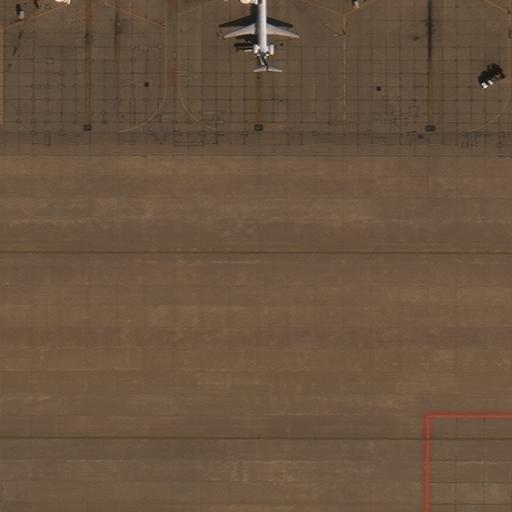Medium Civil Transport: (224, 0, 298, 71)
